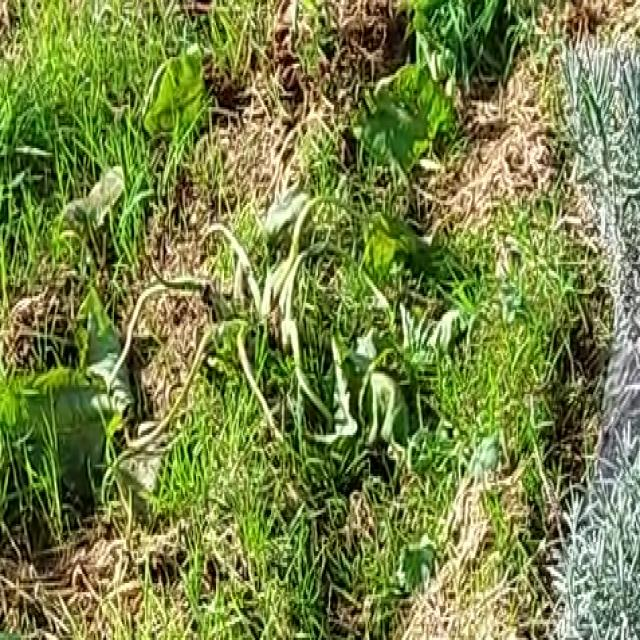organic waste: (17, 46, 494, 528)
